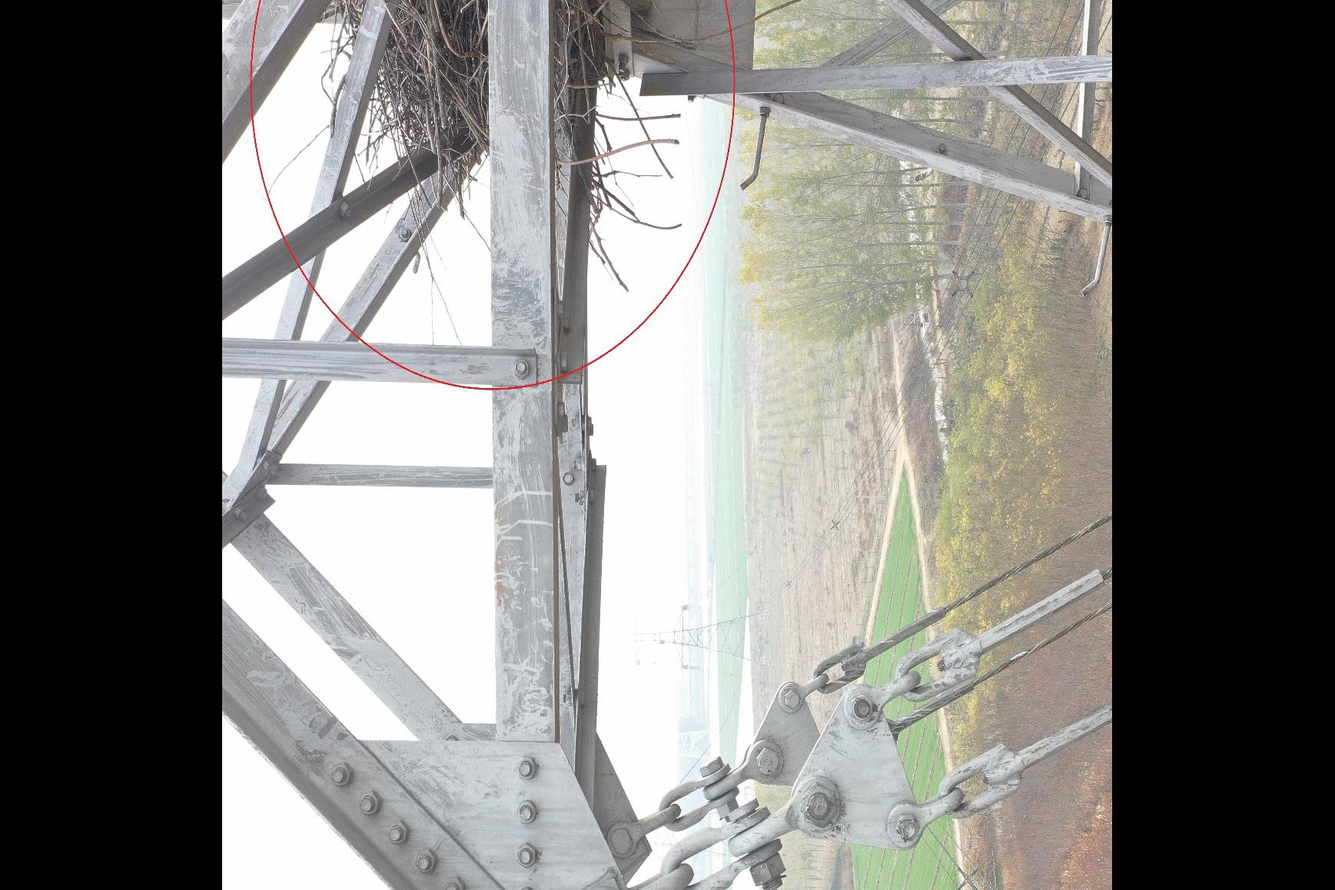nest: (324, 1, 628, 247)
